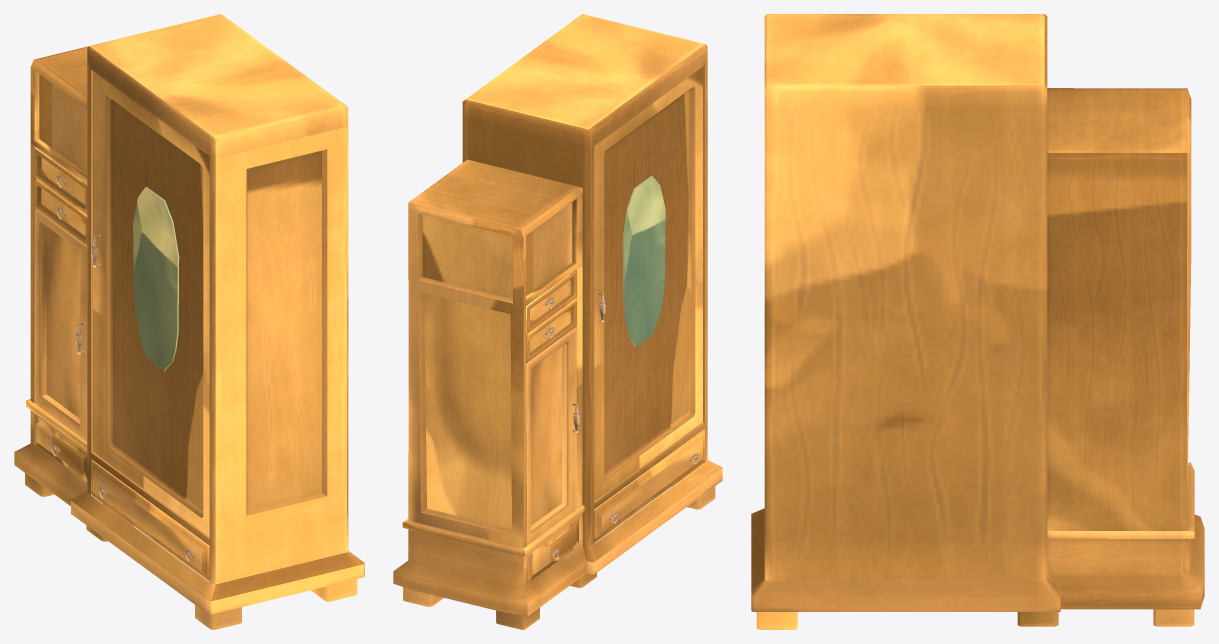
The model's file is SM_Wardrobe.fbx.
3 views of the same model, side by side, from view 1: azimuth 30°, elevation 25°; view 2: azimuth 150°, elevation 25°; view 3: azimuth 270°, elevation 25° (orthographic). The views are drawn at different scales.
Parts seen in each view (by area): view 1: SM_Wardrobe_LOD0; view 2: SM_Wardrobe_LOD0; view 3: SM_Wardrobe_LOD0.
Boxes of the visible parts, box(x1,y1,x2,y2) form: SM_Wardrobe_LOD0: box(14, 14, 364, 629); SM_Wardrobe_LOD0: box(393, 14, 722, 629); SM_Wardrobe_LOD0: box(751, 14, 1204, 629).
Size of the model in its own units: 76.27 by 172 by 227.
